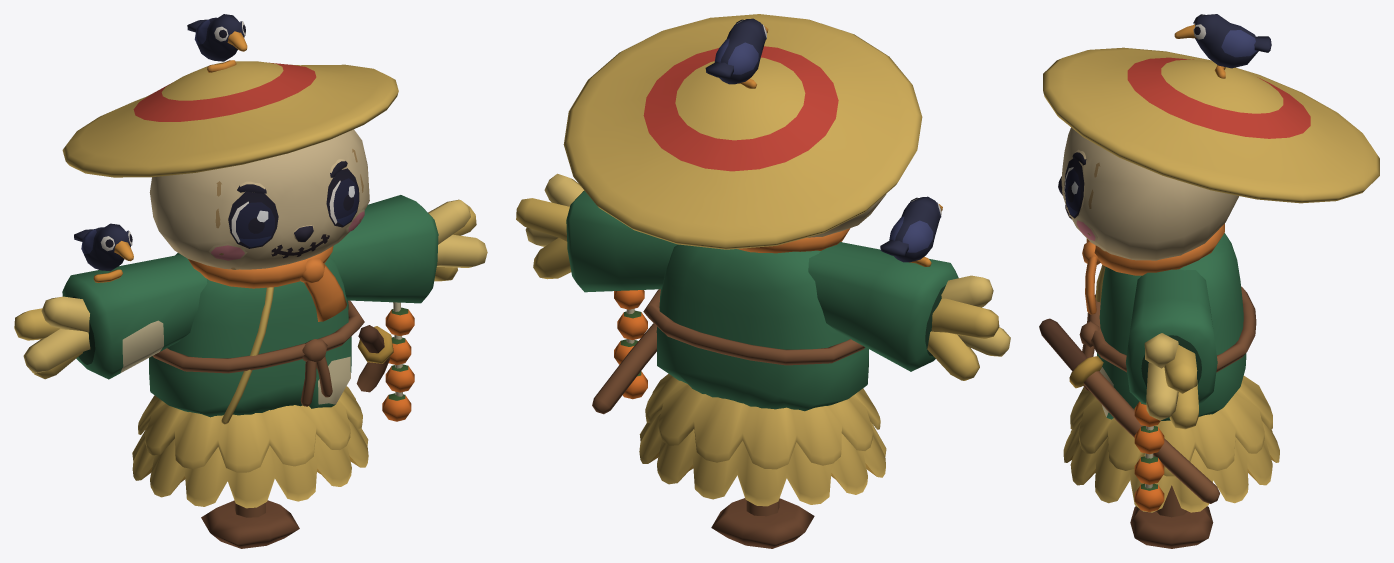
File: kakashi_hoshigaki.glb
3 views of the same model, side by side, from view 1: azimuth 30°, elevation 25°; view 2: azimuth 150°, elevation 25°; view 3: azimuth 270°, elevation 25° (orthographic). The views are drawn at different scales.
Visible parts, largest first — view 1: body, crowA, crowB; view 2: body, crowA, crowB; view 3: body, crowB.
Part boxes in pixels (box(x1,y1,x2,y2)): body: box(14, 61, 487, 548); crowA: box(74, 223, 133, 282); crowB: box(187, 14, 247, 72); body: box(516, 14, 1010, 548); crowA: box(880, 196, 942, 266); crowB: box(705, 18, 768, 88); body: box(1039, 47, 1379, 548); crowB: box(1174, 14, 1271, 78).
Size of the model in its own units: 1.7 by 1.79 by 1.07.
